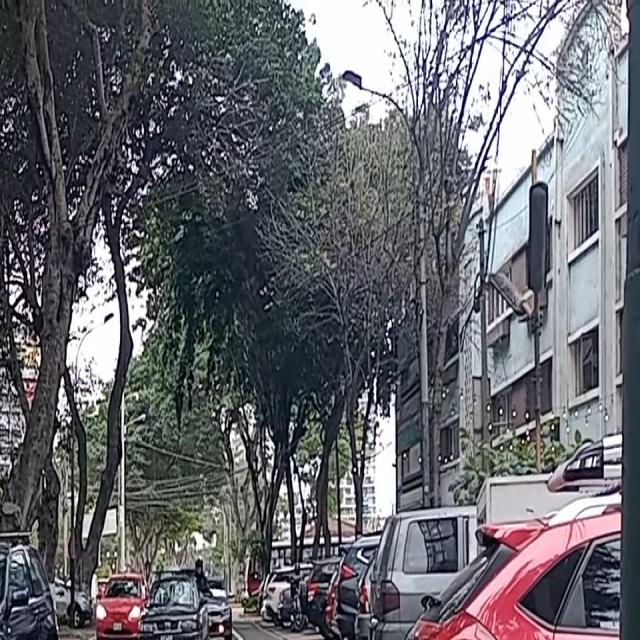car: (0, 541, 58, 640), (138, 575, 208, 640), (95, 571, 148, 640), (199, 576, 232, 640)
